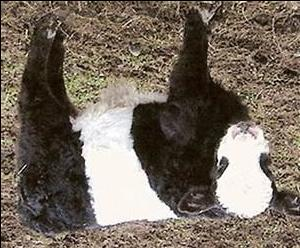cow: (12, 7, 299, 237)
